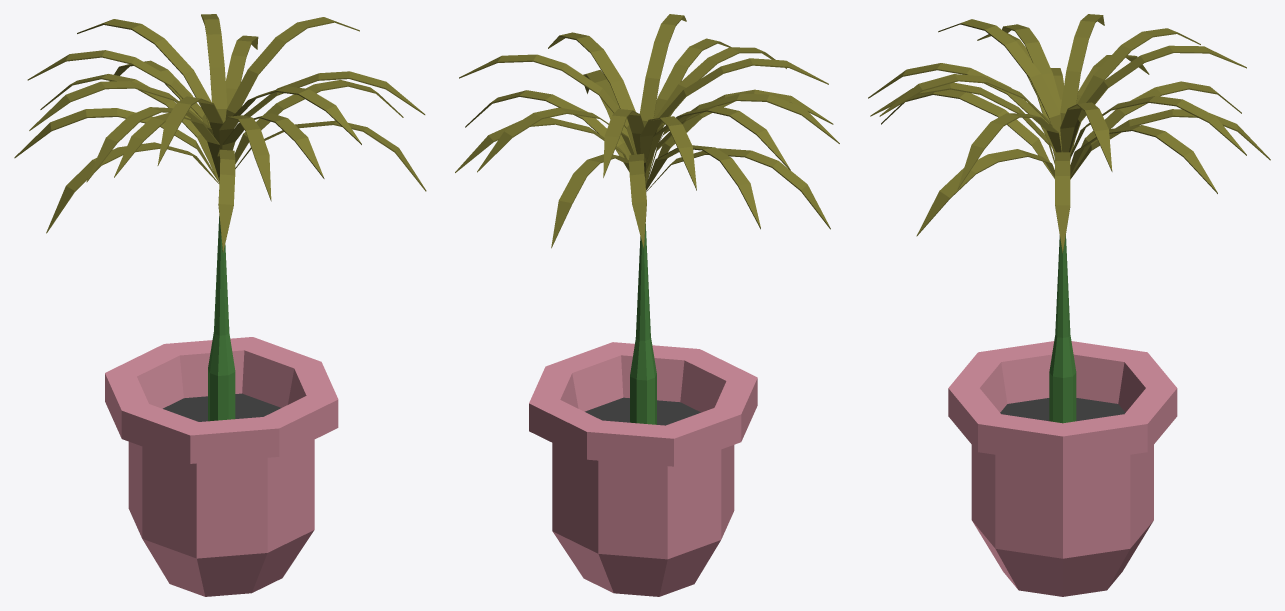
Rendered from Flower_48.fbx.
3 renders of one model, left to right at view 1: azimuth 30°, elevation 25°; view 2: azimuth 150°, elevation 25°; view 3: azimuth 270°, elevation 25°, orthographic. The views are drawn at different scales.
Visible parts, largest first — view 1: Flower_48; view 2: Flower_48; view 3: Flower_48.
Part boxes in pixels (x1,y1,x2,y2): Flower_48: (14,14,426,596); Flower_48: (455,14,839,596); Flower_48: (868,14,1270,596).
Bounding box in the file's own units: 68.08 × 65.53 × 91.23.
